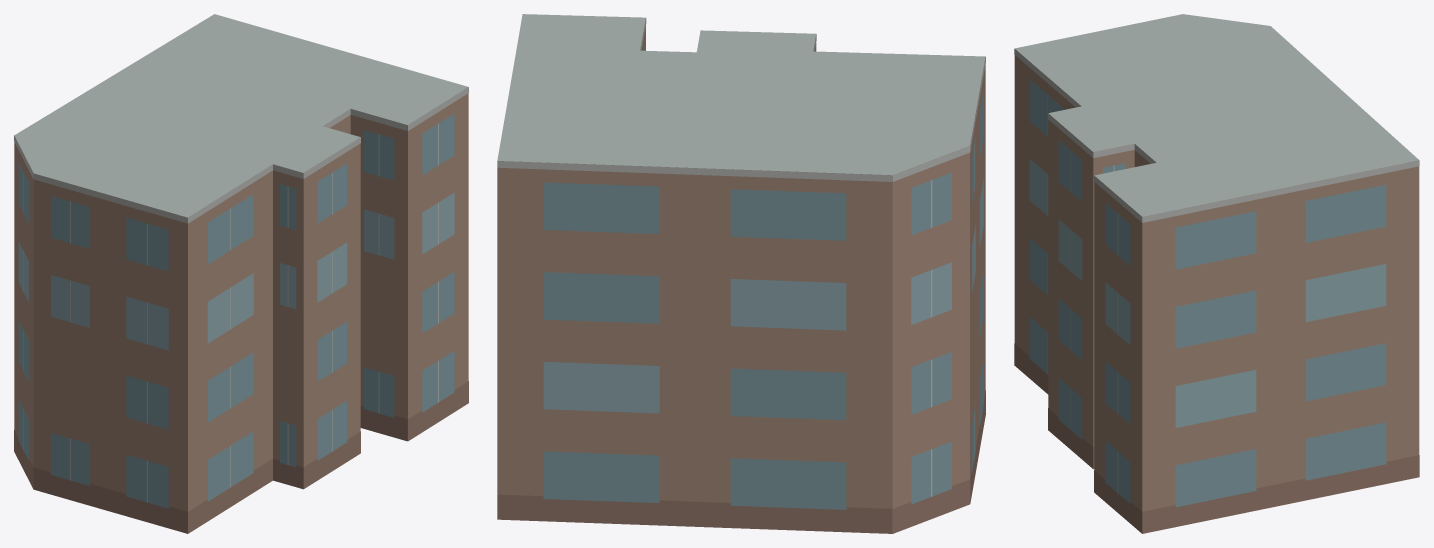
The model's file is survey-upis-32912448.glb.
The picture shows the model from 3 angles, left to right: view 1: azimuth 30°, elevation 25°; view 2: azimuth 150°, elevation 25°; view 3: azimuth 270°, elevation 25°; orthographic projection. The views are drawn at different scales.
Parts seen in each view (by area): view 1: survey-upis-32912448.tmp; view 2: survey-upis-32912448.tmp; view 3: survey-upis-32912448.tmp.
Boxes of the visible parts, <box> form: survey-upis-32912448.tmp: <box>14,14,468,533</box>; survey-upis-32912448.tmp: <box>497,14,985,533</box>; survey-upis-32912448.tmp: <box>1014,14,1419,533</box>.
Size of the model in its own units: 17.58 by 12.8 by 14.83.
